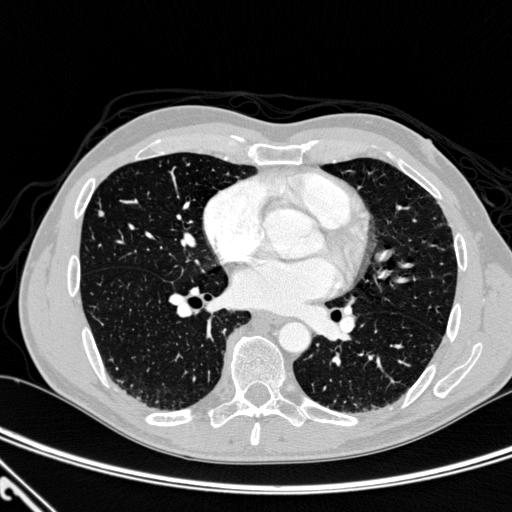nodule: (96, 208, 107, 219)
